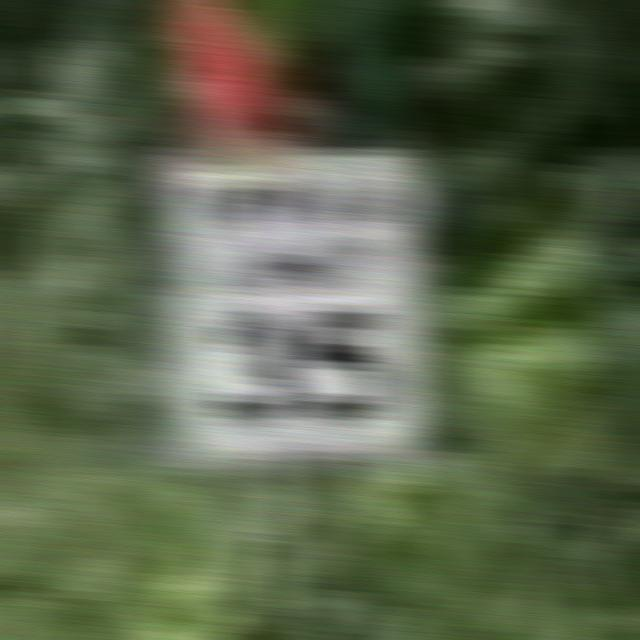speedLimit35: (158, 155, 424, 472)
